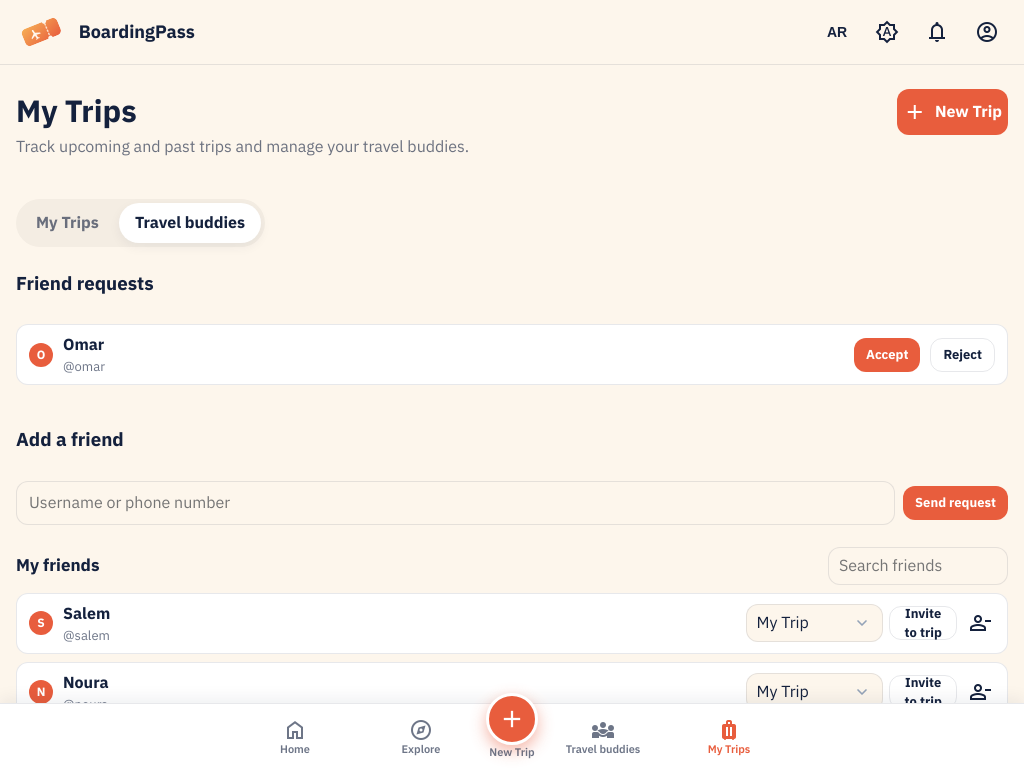
it: US-010 Friends & Group › blocks a duplicate friend request (AC2)
Type "salem" into the field named "Add a friend" at (456, 503), box [16,481,895,525]
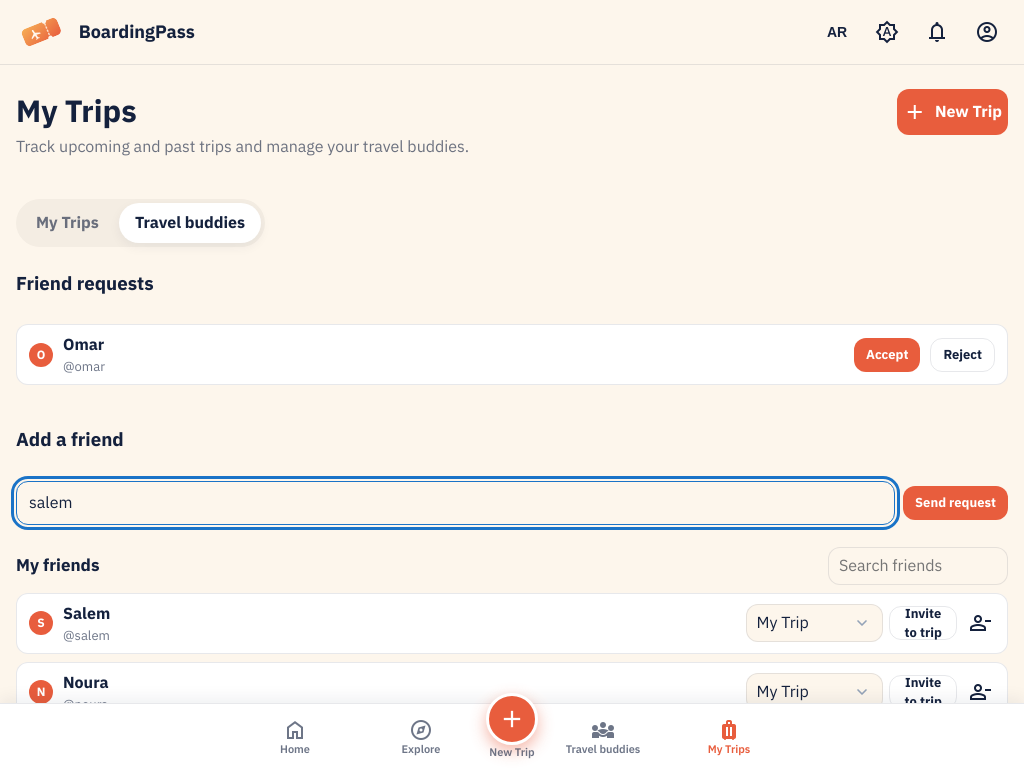
Click the button "Send request" at (956, 503), box [903,486,1008,520]
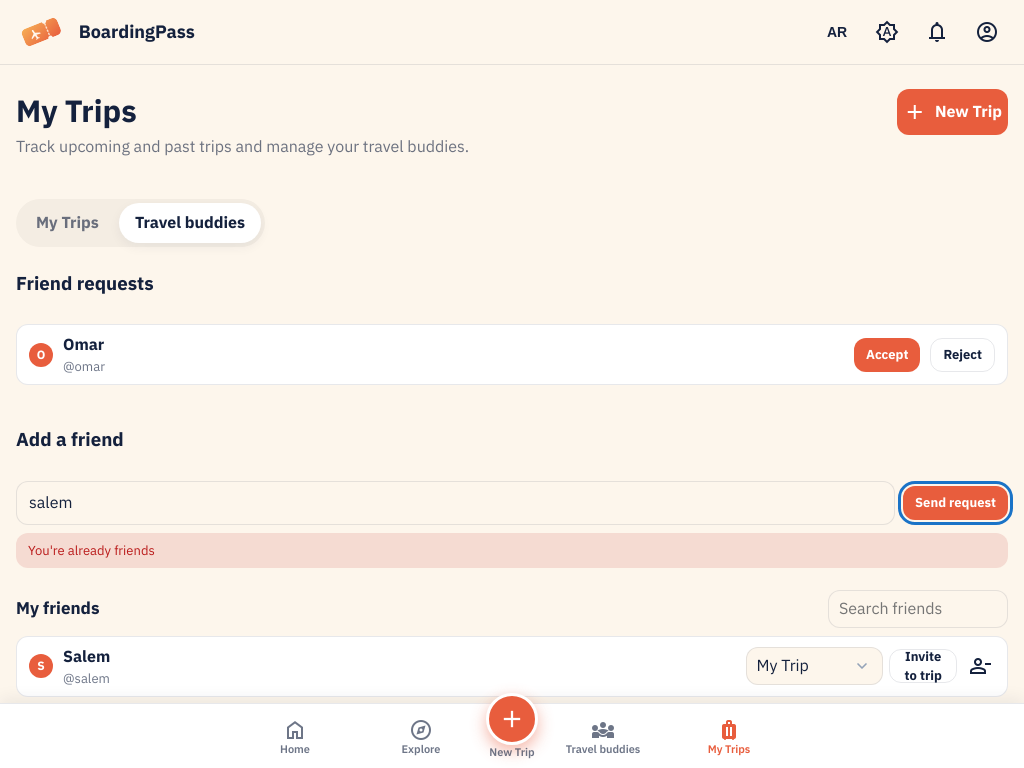
Result: the message shows "already friends" at [28,541,155,560]
